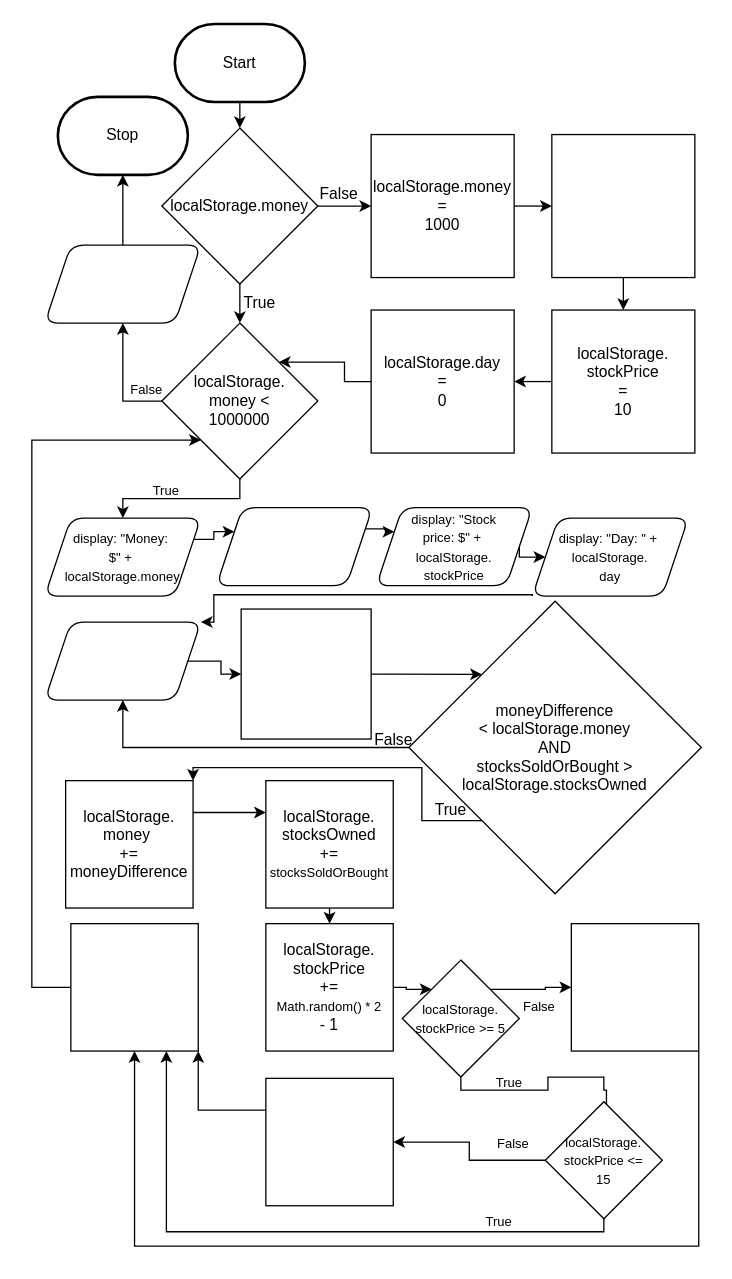
The diagram is 732 pixels wide and 1279 high, and some of its shapes have lost their labels. Each missing label, with the box of its shape:
display: "Stocks Owned: " + localStorage. stocksOwned: (215, 506, 372, 586)
display: "You Win! Day: " + localStorage.day: (44, 244, 201, 323)
localStorage. day += 1: (70, 922, 198, 1051)
localStorage. stockPrice = 15 - Math.random(): (265, 1077, 393, 1206)
localStorage. stockPrice = 5 + Math.random(): (570, 922, 699, 1051)
localStorage. stocksOwned = 0: (551, 133, 695, 278)
moneyDifference= stocksSoldOrBought * localStorage. stockPrice: (240, 608, 371, 739)
user enters: stocksSoldOrBought: (44, 621, 201, 700)
